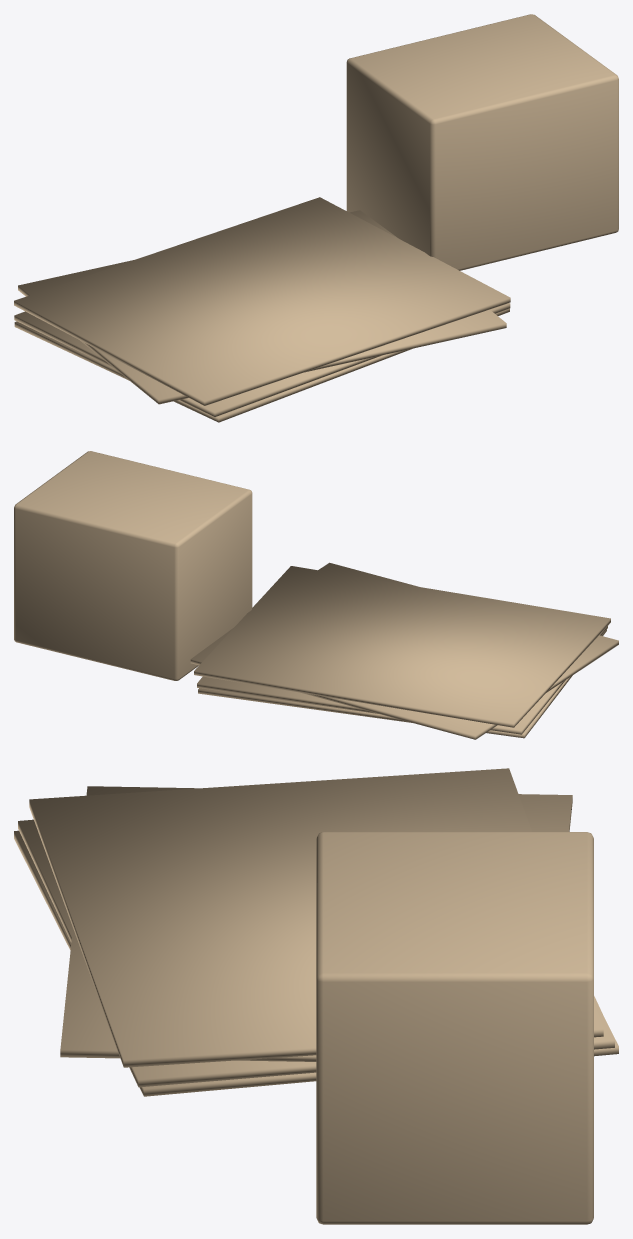
Rendered from com_boxes.glb.
The picture shows the model from 3 angles, top to bottom: view 1: azimuth 30°, elevation 25°; view 2: azimuth 150°, elevation 25°; view 3: azimuth 270°, elevation 25°; orthographic projection. The views are drawn at different scales.
Visible parts, largest first — view 1: com_boxes; view 2: com_boxes; view 3: com_boxes.
Part boxes in pixels (x1,y1,x2,y2): com_boxes: (14,14,618,422); com_boxes: (14,451,618,739); com_boxes: (14,768,618,1224).
Size of the model in its own units: 1.46 by 0.4 by 0.8721.
